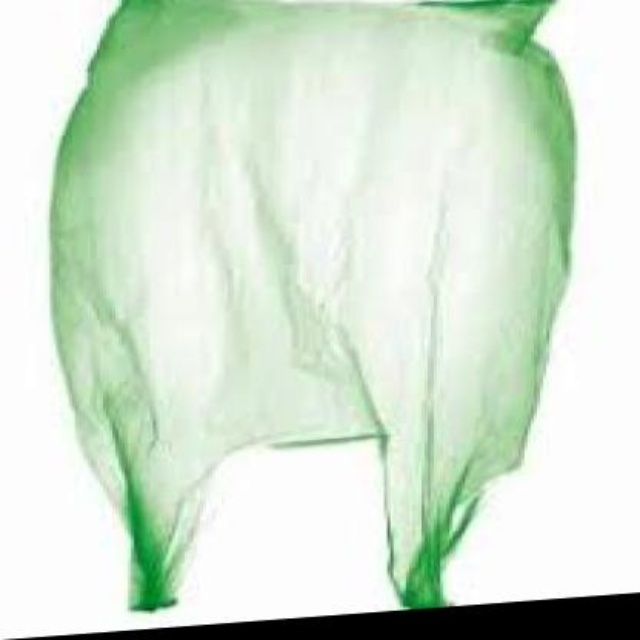trash: (51, 0, 572, 608)
